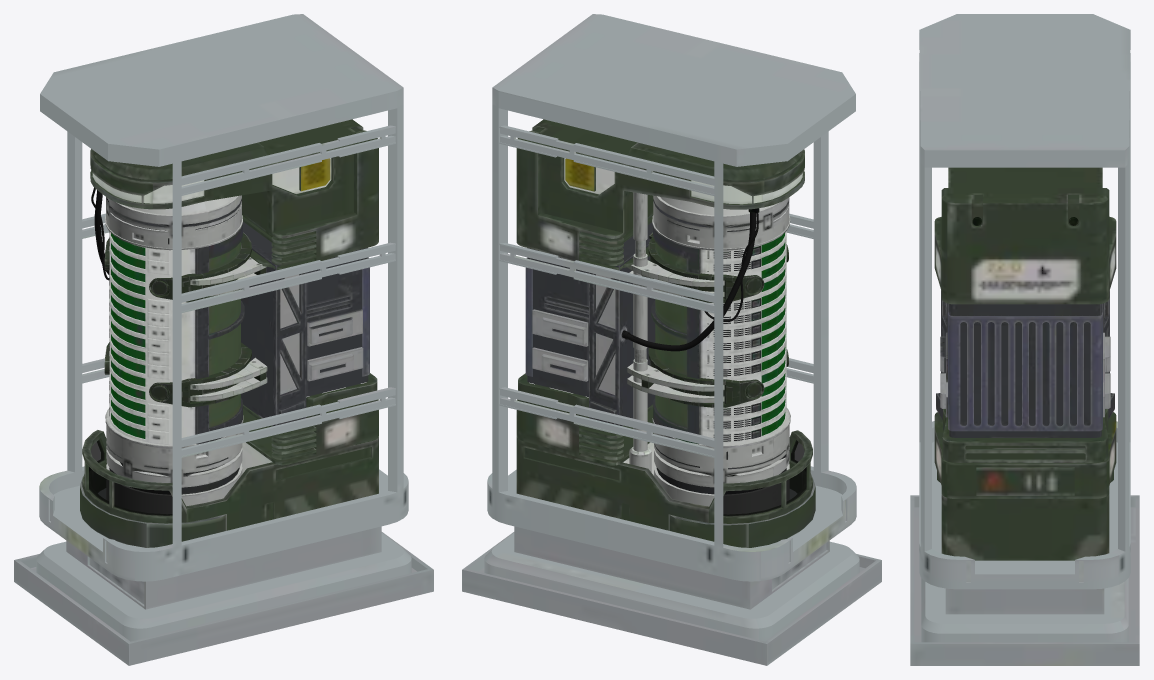
The model's file is server-rack.glb.
3 renders of one model, left to right at view 1: azimuth 30°, elevation 25°; view 2: azimuth 150°, elevation 25°; view 3: azimuth 270°, elevation 25°, orthographic.
Visible parts, largest first — view 1: defaultMaterial (×7); view 2: defaultMaterial (×7); view 3: defaultMaterial (×3).
Part boxes in pixels (x1,y1,x2,y2): defaultMaterial (×7): (14,14,433,665); defaultMaterial (×7): (462,14,881,665); defaultMaterial (×3): (910,14,1139,665).
Bounding box in the file's own units: 1.27 × 2 × 0.8248.
7 materials, 6 textured.
